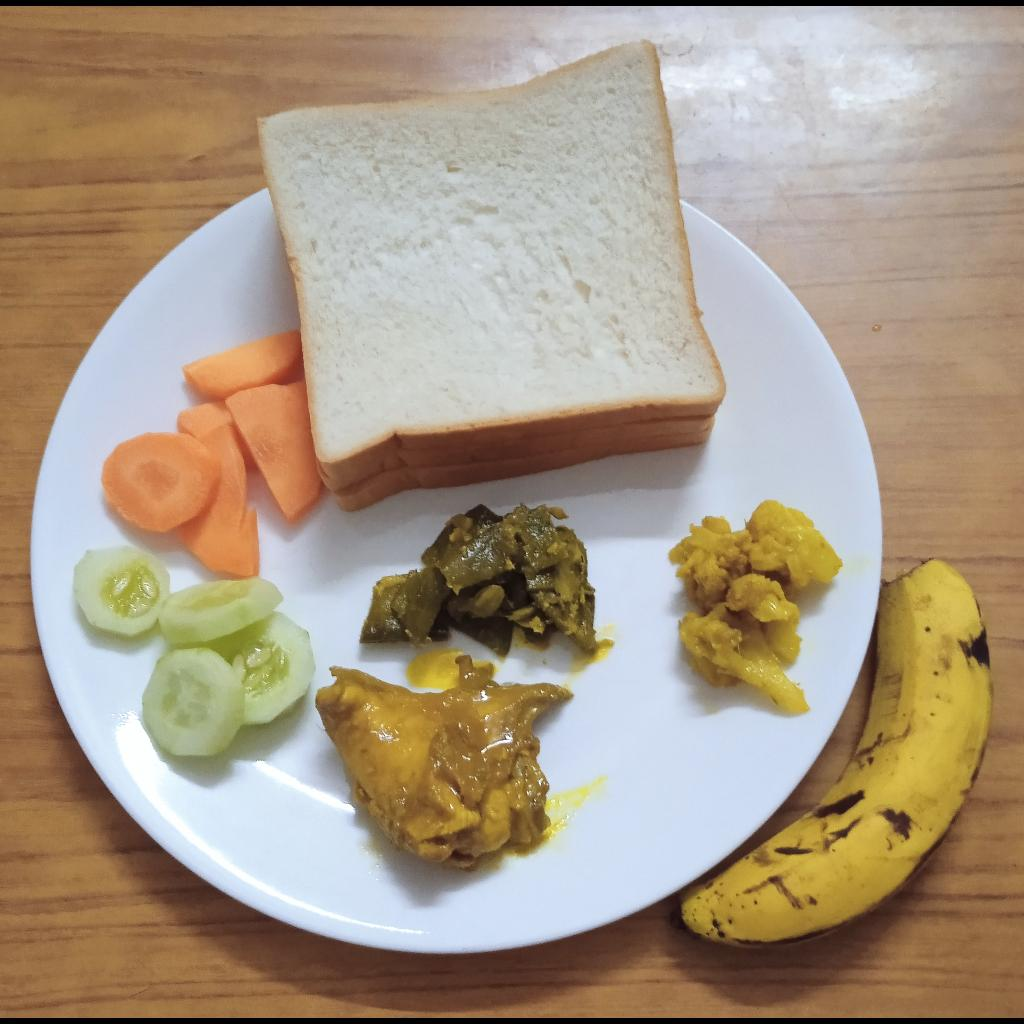banana: (679, 560, 993, 947)
beef: (317, 656, 573, 874)
bread: (256, 39, 727, 514)
carrot: (100, 331, 319, 576)
cauliflower: (670, 501, 845, 716)
cucumber: (73, 548, 320, 757)
shim: (361, 505, 603, 661), (636, 667, 639, 670), (637, 670, 639, 672)
